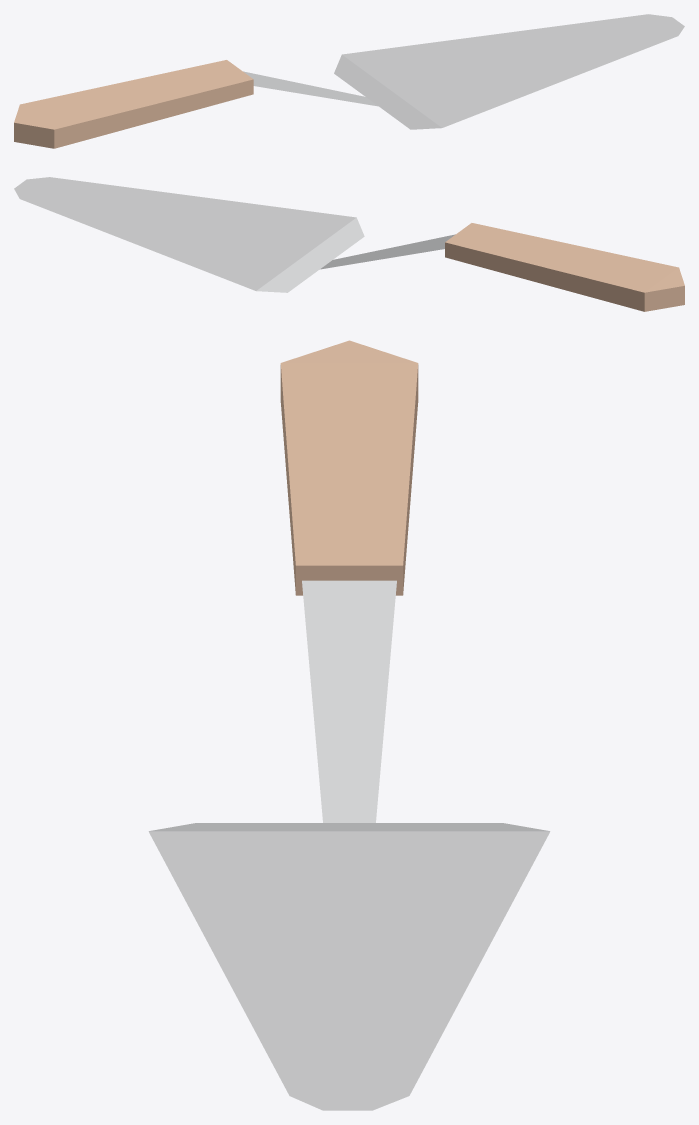
The model's file is cake_slicer.glb.
3 renders of one model, top to bottom at view 1: azimuth 30°, elevation 25°; view 2: azimuth 150°, elevation 25°; view 3: azimuth 270°, elevation 25°, orthographic. The views are drawn at different scales.
Visible parts, largest first — view 1: cakeSlicer; view 2: cakeSlicer; view 3: cakeSlicer.
Part boxes in pixels (x1,y1,x2,y2): cakeSlicer: [14, 14, 684, 148]; cakeSlicer: [14, 177, 684, 311]; cakeSlicer: [148, 340, 550, 1110].
Size of the model in its own units: 0.7246 by 0.0692 by 0.19.
